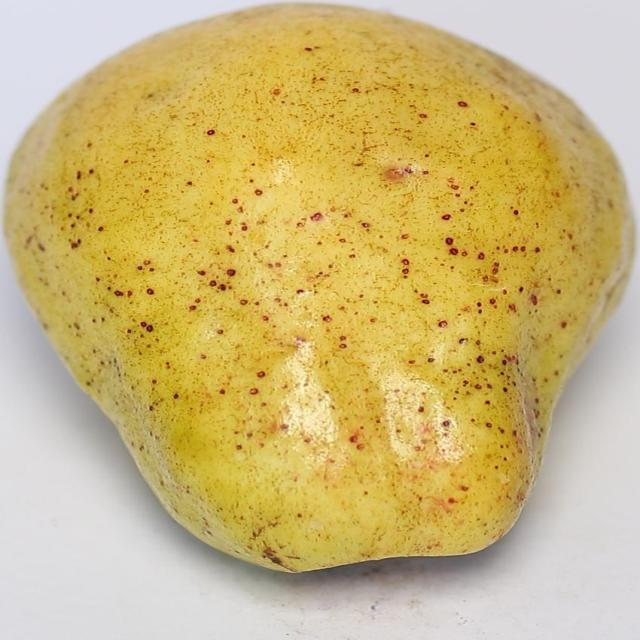Good_Guava: (1, 3, 636, 577)
